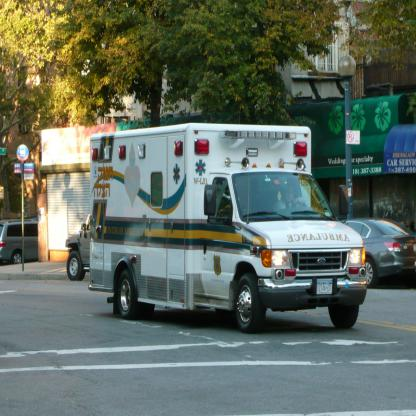Ambulance: (88, 101, 367, 334)
Car: (343, 218, 415, 289), (65, 211, 93, 280)
